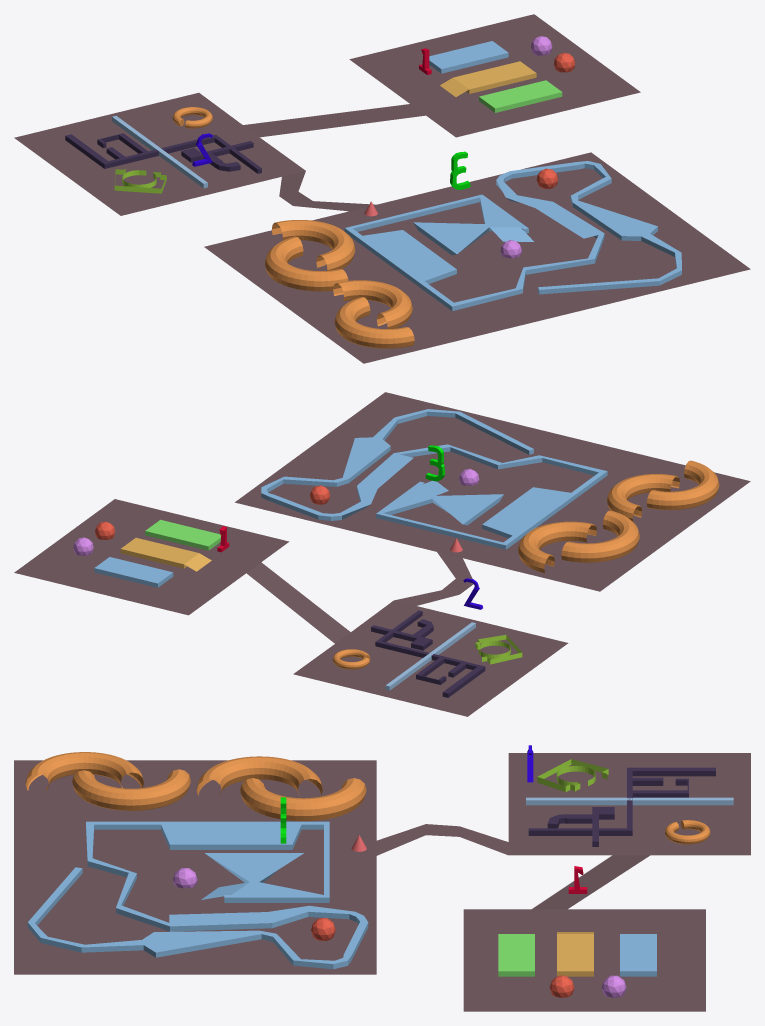
File: Levels.fbx
3 renders of one model, top to bottom at view 1: azimuth 30°, elevation 25°; view 2: azimuth 150°, elevation 25°; view 3: azimuth 270°, elevation 25°, orthographic. The views are drawn at different scales.
Parts seen in each view (by area): view 1: Plane, Cube.006, Simple Puzzle, Torus.002, Torus.001, Torus.004, Torus.003, Cube.002, Cube.001, Cube.003, Cube, Bootleneck (+1 smaller); view 2: Plane, Cube.006, Simple Puzzle, Torus.002, Torus.001, Torus.004, Torus.003, Cube.002, Cube.003, Cube.001, Cube, Bootleneck (+1 smaller); view 3: Plane, Cube.006, Simple Puzzle, Torus.001, Torus.003, Torus.002, Torus.004, Cube, Cube.002, Cube.001, Cube.003, Bootleneck (+4 smaller).
Part boxes in pixels (x1=…): Plane: x1=14, y1=14, x2=750, y2=363; Cube.006: x1=344, y1=161, x2=681, y2=311; Simple Puzzle: x1=65, y1=133, x2=261, y2=173; Torus.002: x1=265, y1=236, x2=348, y2=291; Torus.001: x1=271, y1=220, x2=355, y2=270; Torus.004: x1=334, y1=297, x2=414, y2=348; Torus.003: x1=333, y1=280, x2=412, y2=328; Cube.002: x1=440, y1=61, x2=536, y2=96; Cube.001: x1=479, y1=80, x2=562, y2=112; Cube.003: x1=429, y1=41, x2=508, y2=73; Cube: x1=112, y1=115, x2=207, y2=188; Bootleneck: x1=114, y1=168, x2=166, y2=193; Plane: x1=14, y1=392, x2=750, y2=716; Cube.006: x1=261, y1=409, x2=607, y2=549; Simple Puzzle: x1=371, y1=610, x2=485, y2=697; Torus.002: x1=561, y1=510, x2=639, y2=562; Torus.001: x1=518, y1=521, x2=596, y2=573; Torus.004: x1=646, y1=460, x2=719, y2=510; Torus.003: x1=607, y1=474, x2=679, y2=521; Cube.002: x1=120, y1=537, x2=211, y2=571; Cube.003: x1=94, y1=557, x2=173, y2=587; Cube.001: x1=145, y1=519, x2=221, y2=550; Cube: x1=385, y1=622, x2=475, y2=690; Bootleneck: x1=475, y1=635, x2=522, y2=664; Plane: x1=14, y1=753, x2=750, y2=1011; Cube.006: x1=27, y1=821, x2=368, y2=969; Simple Puzzle: x1=528, y1=767, x2=715, y2=846; Torus.001: x1=240, y1=778, x2=366, y2=821; Torus.003: x1=72, y1=769, x2=190, y2=810; Torus.002: x1=196, y1=756, x2=322, y2=795; Torus.004: x1=25, y1=752, x2=143, y2=790; Cube: x1=526, y1=797, x2=733, y2=805; Cube.002: x1=557, y1=932, x2=593, y2=976; Cube.001: x1=498, y1=934, x2=534, y2=976; Cube.003: x1=620, y1=934, x2=656, y2=976; Bootleneck: x1=537, y1=759, x2=608, y2=792.
Size of the model in its own units: 22852 by 3389 by 25694.
